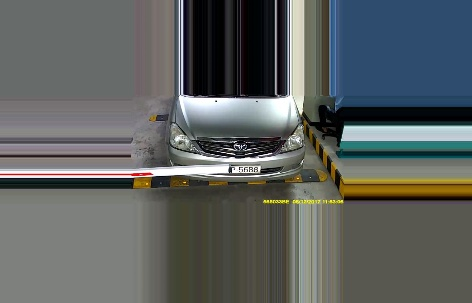plate: (221, 162, 262, 177)
